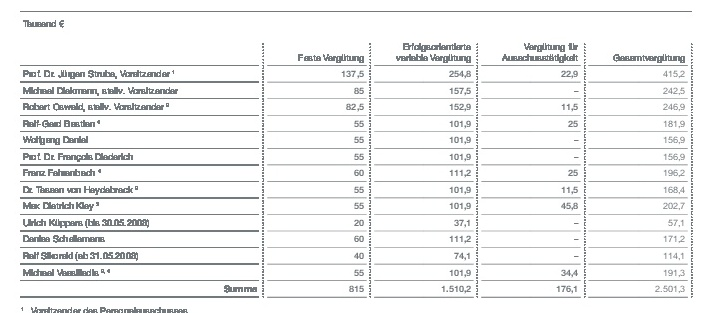table: (0, 0, 712, 313)
